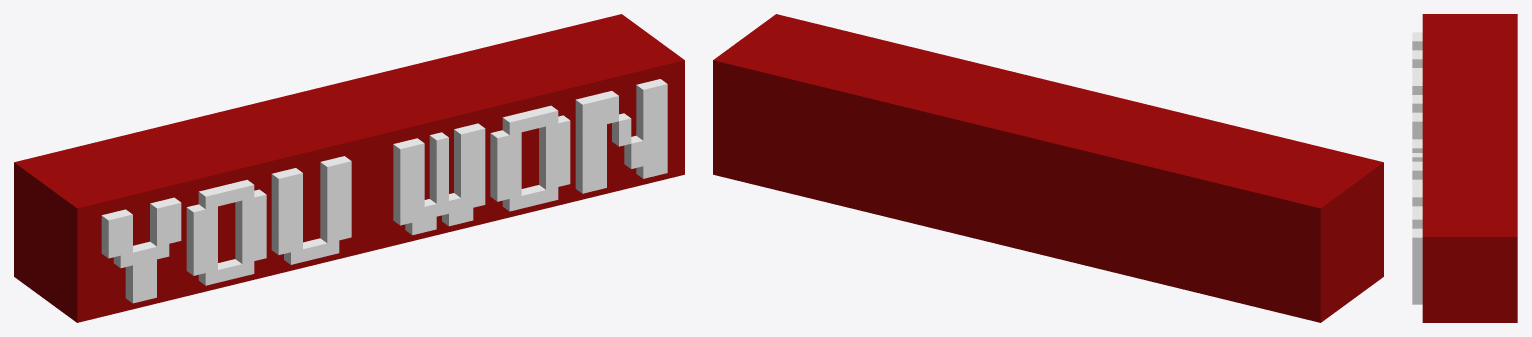
The model's file is Won.fbx.
The picture shows the model from 3 angles, left to right: view 1: azimuth 30°, elevation 25°; view 2: azimuth 150°, elevation 25°; view 3: azimuth 270°, elevation 25°; orthographic projection. The views are drawn at different scales.
Parts seen in each view (by area): view 1: Matrix; view 2: Matrix; view 3: Matrix.
Boxes of the visible parts, x1,y1,x2,y2 form: Matrix: (14,14,684,322); Matrix: (713,14,1383,322); Matrix: (1412,14,1517,322).
Size of the model in its own units: 50 by 9 by 10.
Materials: 1 (1 with a texture image).
